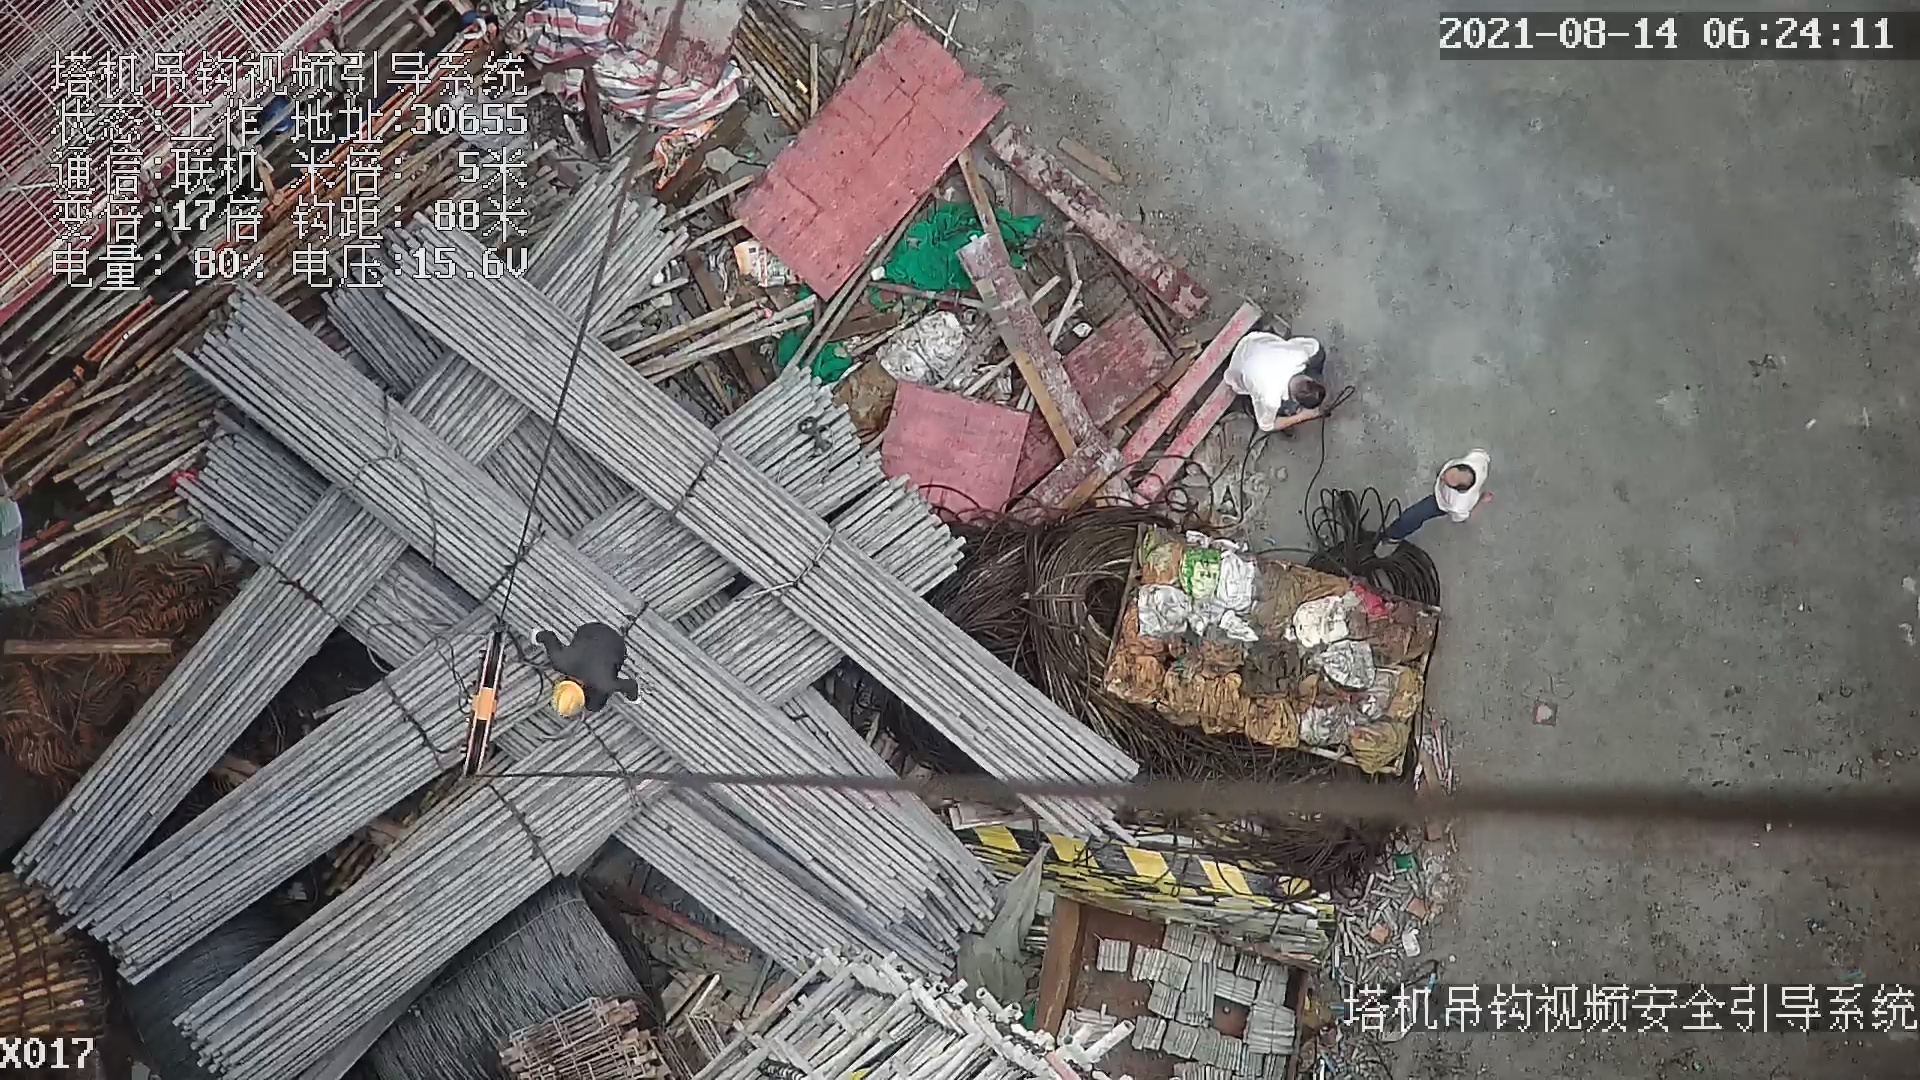helmet: (551, 680, 585, 717)
hook: (453, 615, 512, 781)
person: (1369, 445, 1497, 571), (528, 618, 646, 715), (1226, 331, 1332, 437)
rebar: (183, 291, 942, 930), (392, 280, 1142, 849), (176, 706, 692, 1080), (9, 488, 404, 914), (81, 650, 485, 979)
scaffold: (1, 872, 111, 1036)
